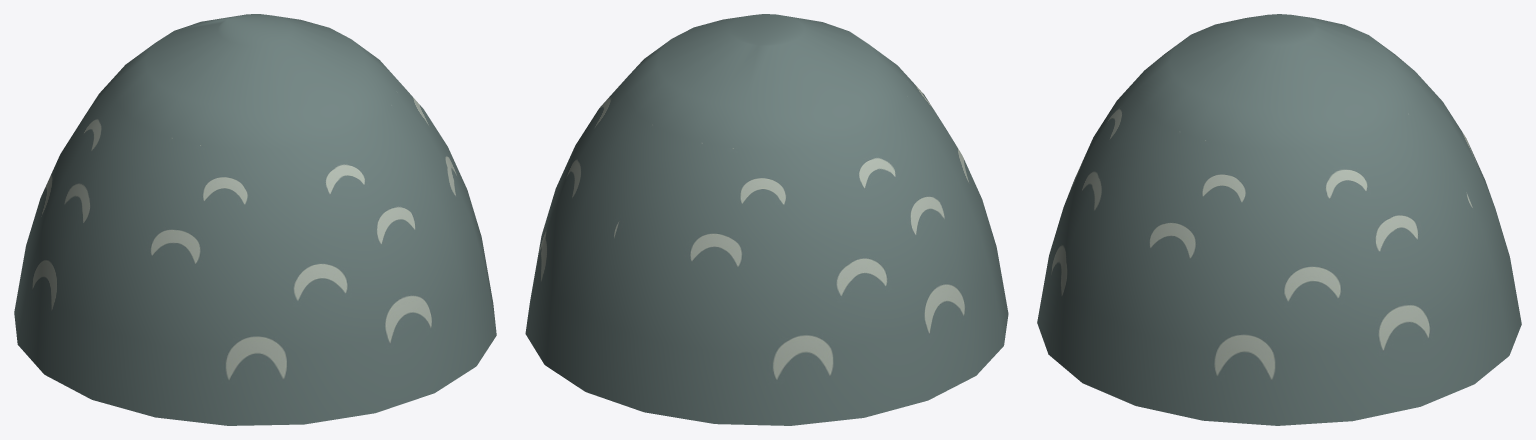
The model's file is RockNoMuskLow.fbx.
The picture shows the model from 3 angles, left to right: view 1: azimuth 30°, elevation 25°; view 2: azimuth 150°, elevation 25°; view 3: azimuth 270°, elevation 25°; orthographic projection.
Visible parts, largest first — view 1: Rock70; view 2: Rock70; view 3: Rock70.
Part boxes in pixels (x1,y1,x2,y2): Rock70: [14, 14, 496, 425]; Rock70: [525, 14, 1008, 425]; Rock70: [1037, 14, 1521, 425].
Size of the model in its own units: 2.41 by 1.61 by 2.41.
